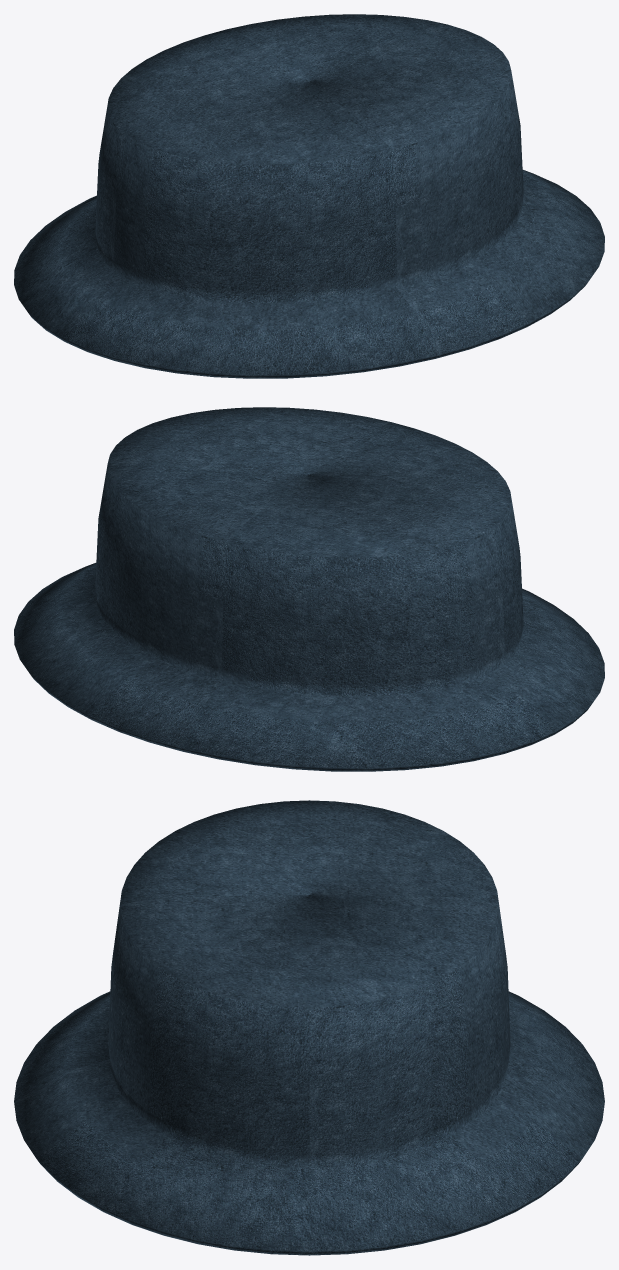
Rendered from buckethat3.fbx.
3 views of the same model, one above another, from view 1: azimuth 30°, elevation 25°; view 2: azimuth 150°, elevation 25°; view 3: azimuth 270°, elevation 25° (orthographic). The views are drawn at different scales.
Visible parts, largest first — view 1: buckethat3; view 2: buckethat3; view 3: buckethat3.
Boxes of the visible parts, x1=… form: buckethat3: x1=14, y1=14, x2=604, y2=378; buckethat3: x1=14, y1=407, x2=604, y2=771; buckethat3: x1=14, y1=800, x2=604, y2=1255.
Size of the model in its own units: 1.08 by 0.359 by 0.9039.
1 material, 1 textured.
